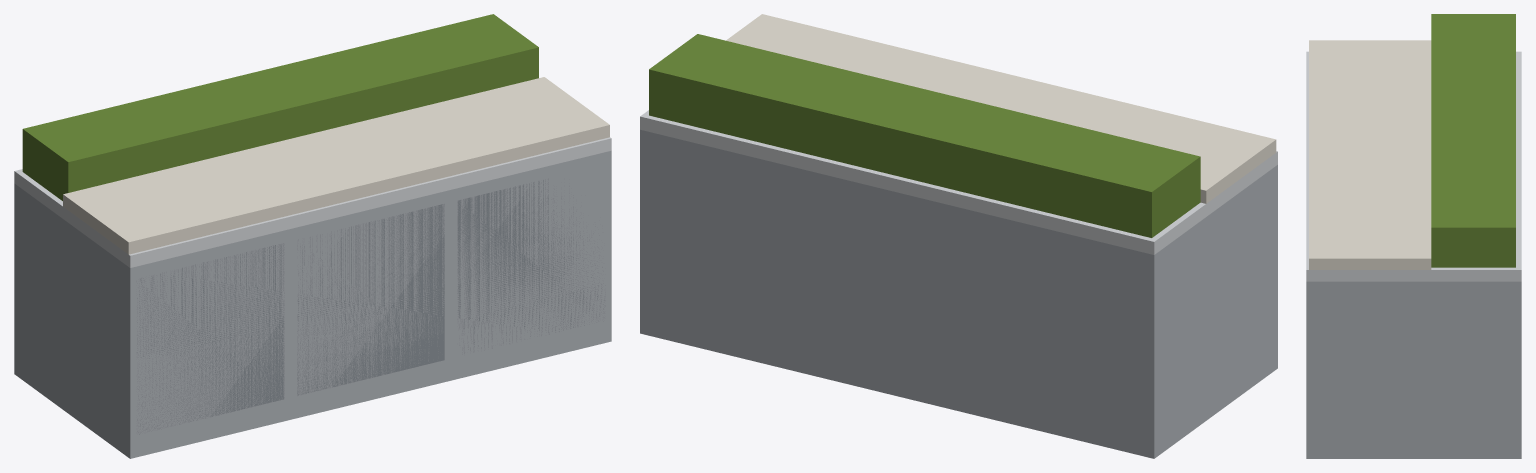
The model's file is prep_table_sandwich_72.glb.
3 views of the same model, side by side, from view 1: azimuth 30°, elevation 25°; view 2: azimuth 150°, elevation 25°; view 3: azimuth 270°, elevation 25° (orthographic). The views are drawn at different scales.
Bounding box in the file's own units: 1.83 × 0.8941 × 0.762.
